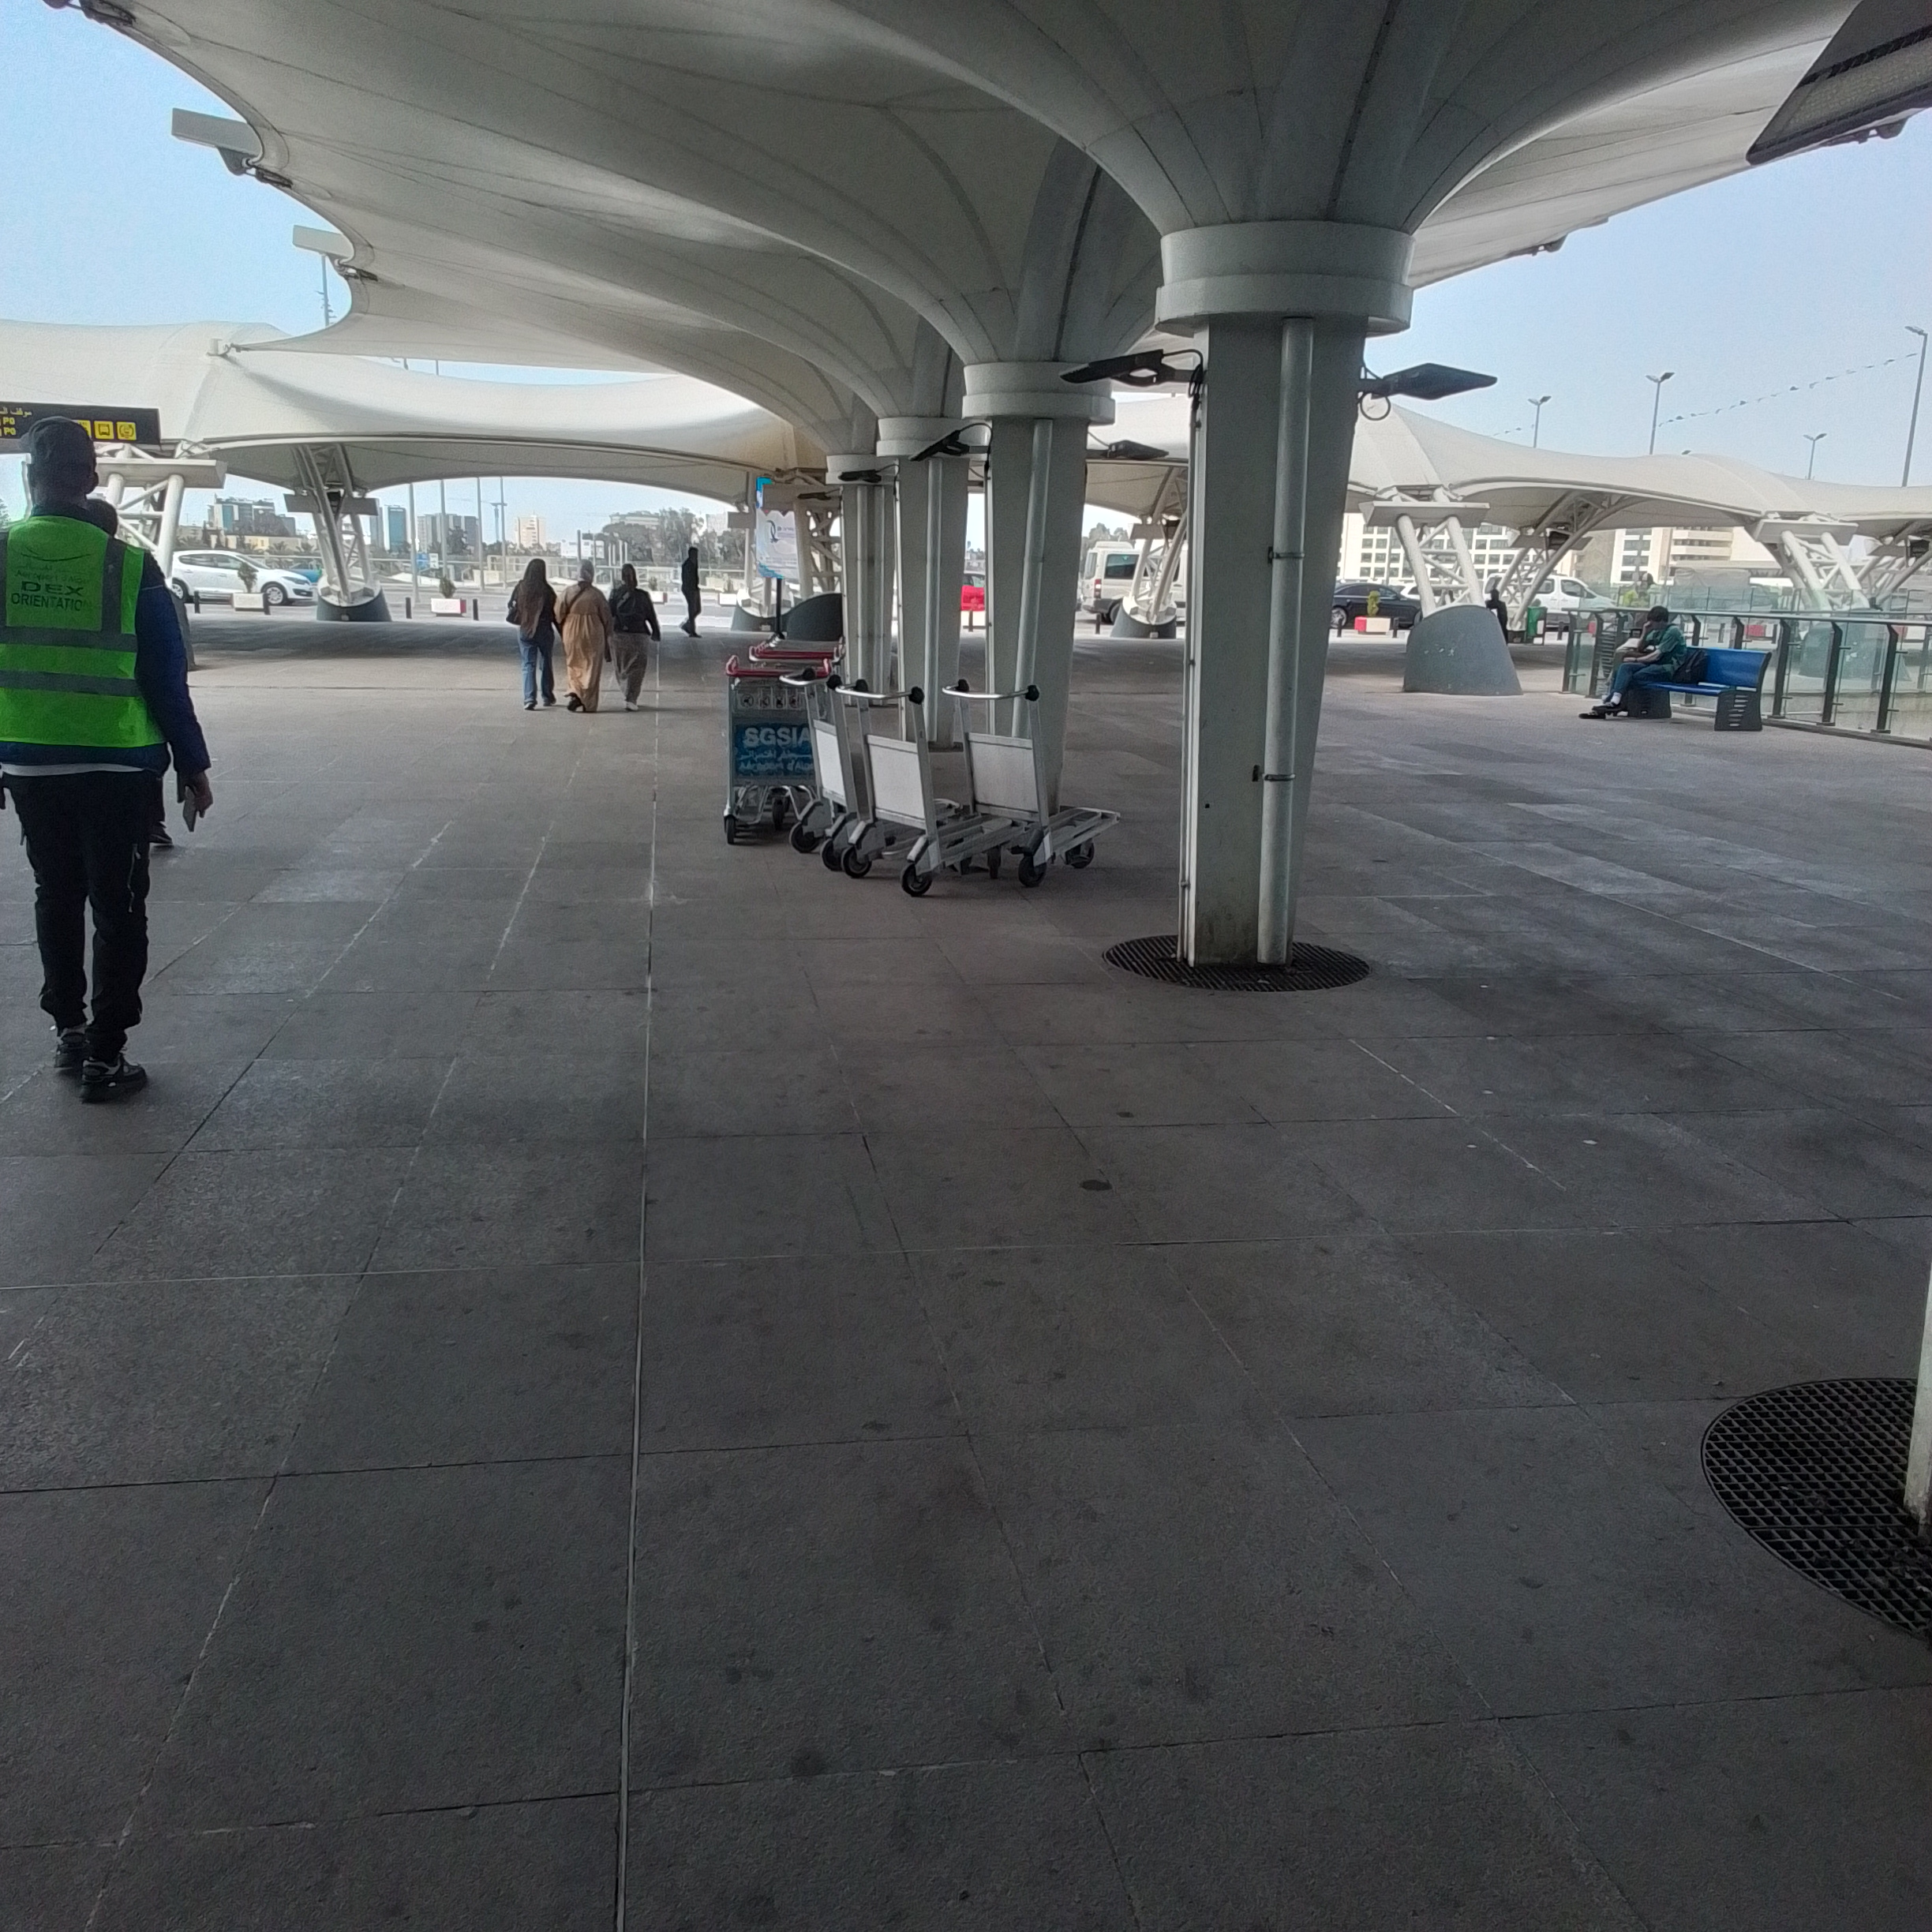airport-trolley: (839, 669, 1019, 893), (947, 671, 1120, 888), (800, 665, 954, 862), (722, 656, 858, 842)
